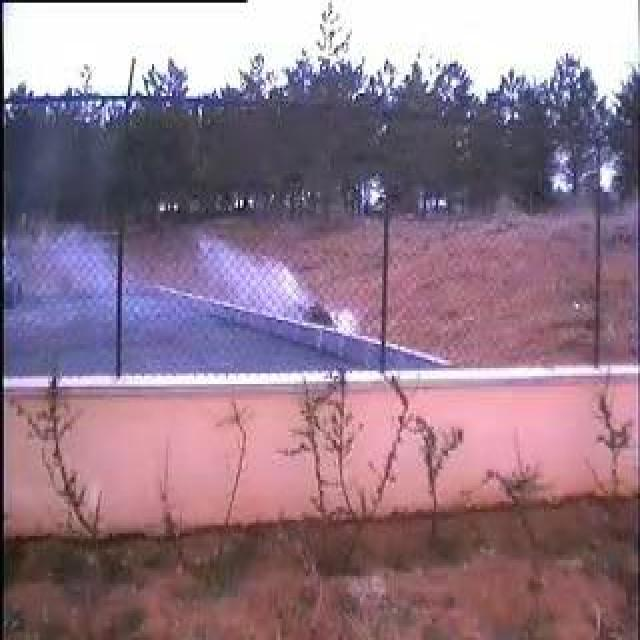Smoke: (51, 207, 329, 372)
